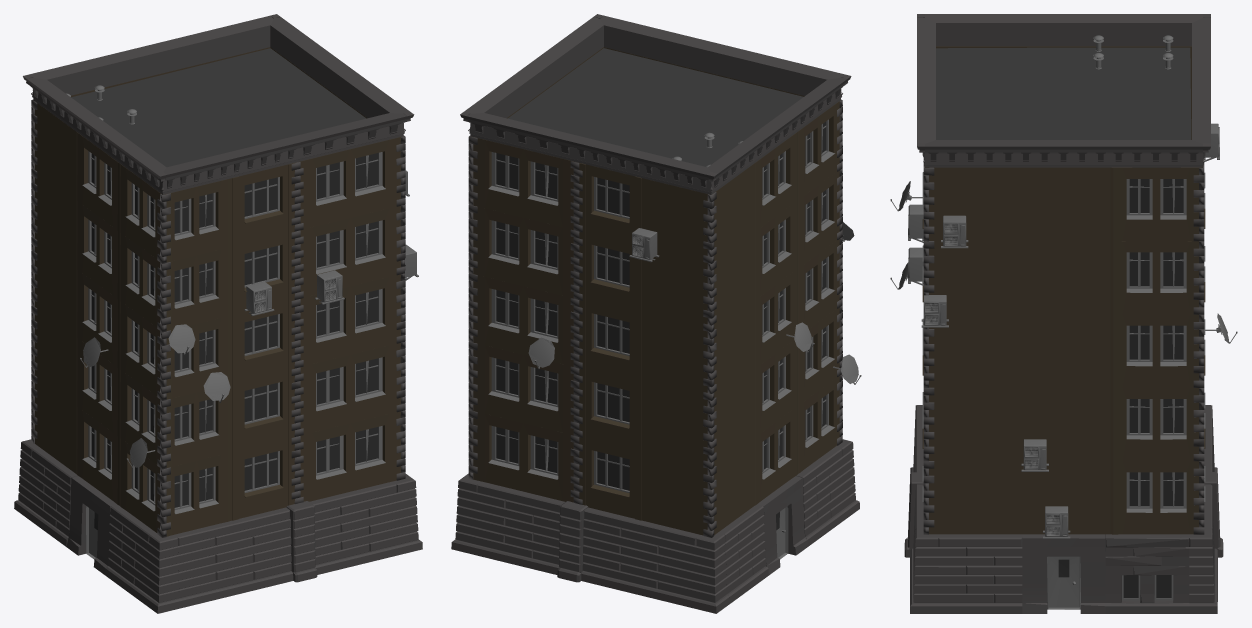
3 renders of one model, left to right at view 1: azimuth 30°, elevation 25°; view 2: azimuth 150°, elevation 25°; view 3: azimuth 270°, elevation 25°, orthographic. The views are drawn at different scales.
Parts seen in each view (by area): view 1: Plane.015, ground_floor_wall_02.134, middle_floor_wall_02.578, middle_floor_wall_02.575, middle_floor_wall_02.574, middle_floor_wall_02.576, ground_floor_wall_02.131, middle_floor_wall_02.577, middle_floor_wall_03.191, middle_floor_wall_03.188, middle_floor_wall_03.187, middle_floor_wall_02.568 (+54 smaller); view 2: Plane.015, ground_floor_wall_02.133, middle_floor_wall_02.583, middle_floor_wall_02.582, middle_floor_wall_02.579, middle_floor_wall_02.580, ground_floor_wall_02.132, middle_floor_wall_02.581, middle_floor_wall_03.183, middle_floor_wall_03.184, middle_floor_wall_03.182, middle_floor_wall_03.185 (+57 smaller); view 3: Plane.015, middle_floor_wall_01.275, middle_floor_wall_01.277, middle_floor_wall_01.279, ground_floor_wall_02.130, ground_floor_wall_03.034, middle_floor_wall_01.273, ground_floor_wall_01.041, middle_floor_wall_02.573, middle_floor_wall_01.270, middle_floor_wall_02.569, middle_floor_wall_02.571 (+43 smaller).
Part boxes in pixels (x1,y1,x2,y2): Plane.015: (71, 48, 366, 167); ground_floor_wall_02.134: (174, 507, 293, 608); middle_floor_wall_02.578: (298, 136, 401, 228); middle_floor_wall_02.575: (300, 343, 400, 434); middle_floor_wall_02.574: (300, 411, 400, 501); middle_floor_wall_02.576: (300, 274, 400, 365); ground_floor_wall_02.131: (309, 481, 399, 574); middle_floor_wall_02.577: (300, 206, 400, 297); middle_floor_wall_03.191: (230, 162, 296, 246); middle_floor_wall_03.188: (230, 368, 294, 452); middle_floor_wall_03.187: (230, 437, 294, 520); middle_floor_wall_02.568: (165, 178, 229, 262); Plane.015: (508, 48, 803, 166); ground_floor_wall_02.133: (581, 507, 699, 608); middle_floor_wall_02.583: (471, 136, 576, 229); middle_floor_wall_02.582: (473, 207, 573, 298); middle_floor_wall_02.579: (473, 412, 573, 502); middle_floor_wall_02.580: (473, 344, 573, 435); ground_floor_wall_02.132: (474, 481, 564, 574); middle_floor_wall_02.581: (473, 275, 573, 366); middle_floor_wall_03.183: (579, 368, 644, 452); middle_floor_wall_03.184: (579, 300, 644, 383); middle_floor_wall_03.182: (579, 437, 644, 520); middle_floor_wall_03.185: (579, 231, 644, 315); Plane.015: (936, 47, 1191, 139); middle_floor_wall_01.275: (1017, 314, 1110, 387); middle_floor_wall_01.277: (1017, 241, 1110, 314); middle_floor_wall_01.279: (1017, 167, 1110, 240); ground_floor_wall_02.130: (938, 534, 1022, 613); ground_floor_wall_03.034: (1105, 534, 1189, 613); middle_floor_wall_01.273: (1017, 387, 1110, 460); ground_floor_wall_01.041: (1022, 534, 1105, 613); middle_floor_wall_02.573: (1110, 167, 1202, 241); middle_floor_wall_01.270: (929, 461, 1017, 534); middle_floor_wall_02.569: (1110, 461, 1198, 534); middle_floor_wall_02.571: (1110, 314, 1198, 387).
Size of the model in its own units: 1308 by 1918 by 1299.
